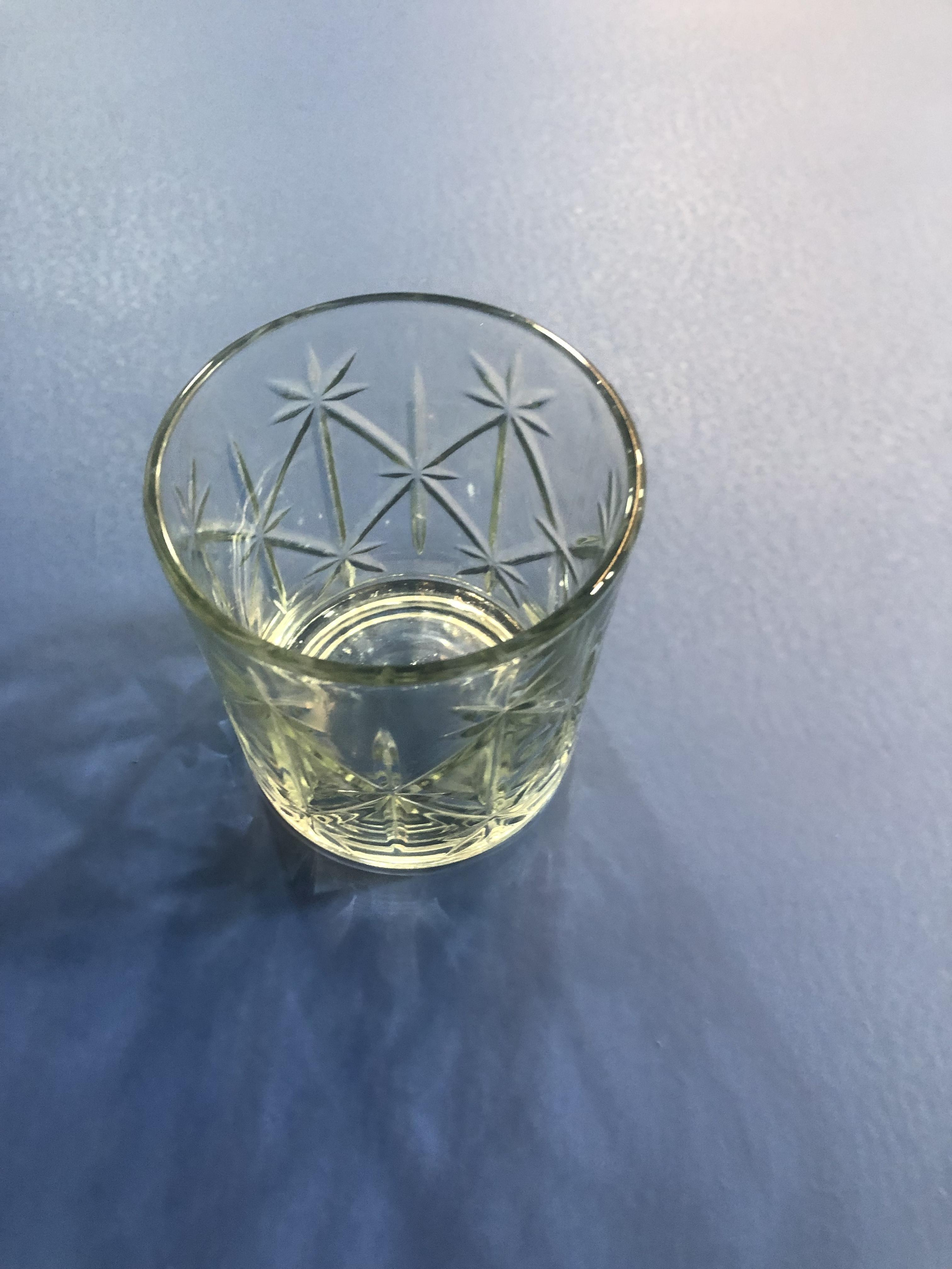glass-normal: (137, 281, 674, 887)
